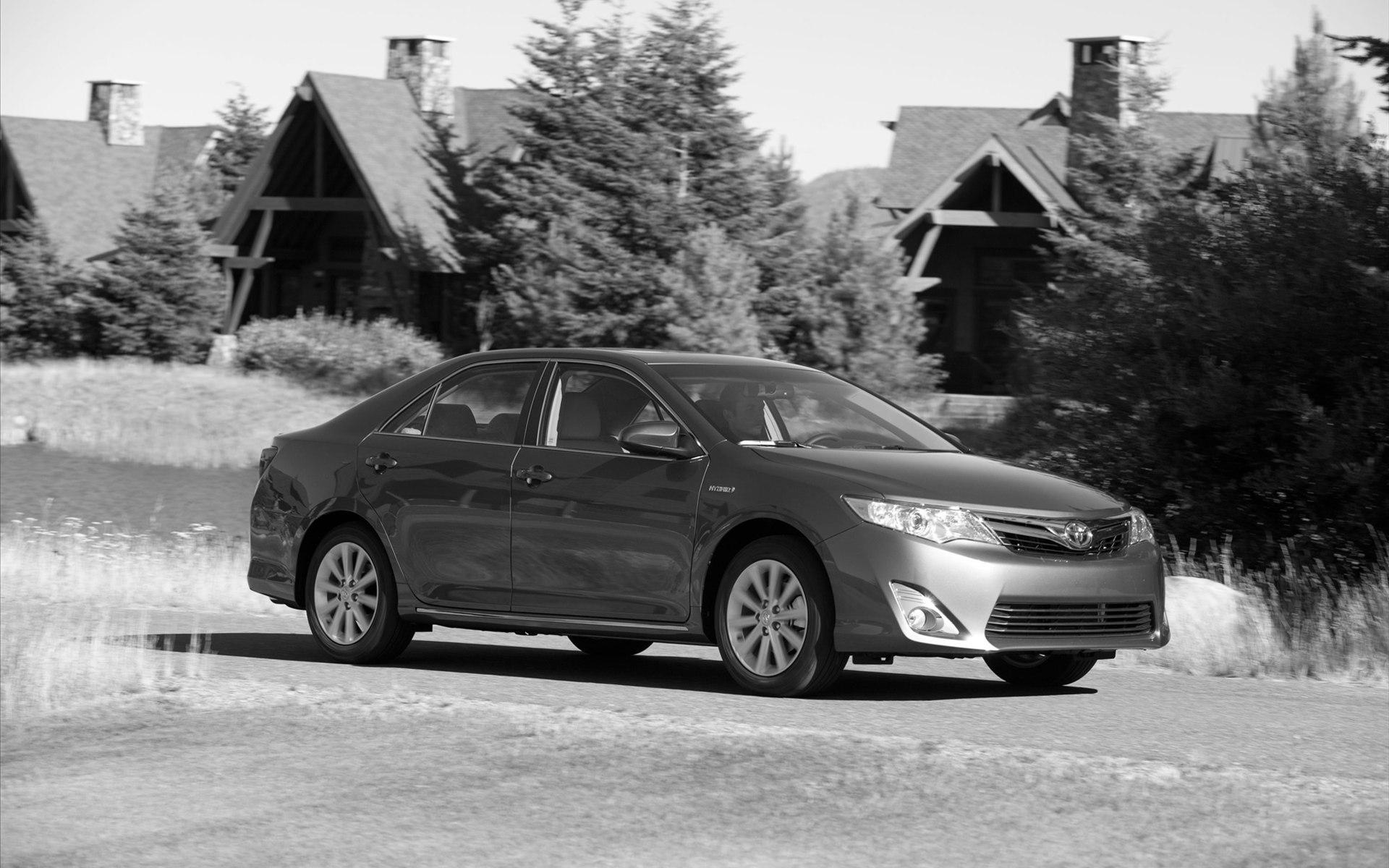car: (252, 338, 1176, 697)
